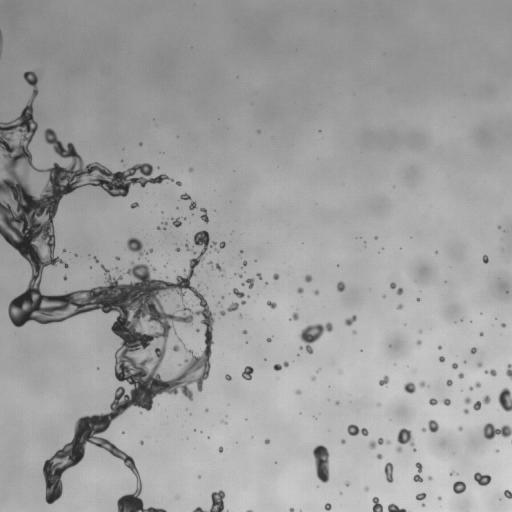droplet: (298, 322, 332, 354), (193, 490, 227, 511), (483, 422, 511, 439), (396, 428, 414, 452), (227, 288, 245, 311), (127, 237, 145, 255), (498, 388, 511, 411), (474, 472, 491, 485), (422, 420, 438, 432), (371, 497, 383, 511), (453, 481, 466, 493), (242, 366, 253, 380), (344, 315, 356, 326), (241, 278, 254, 288), (404, 382, 415, 393), (379, 375, 389, 386), (172, 217, 181, 227), (336, 281, 345, 291), (416, 492, 426, 500), (485, 369, 496, 376), (267, 301, 276, 309), (290, 311, 298, 320), (304, 275, 312, 282), (429, 398, 437, 405), (442, 398, 450, 405), (504, 490, 511, 498), (464, 397, 471, 404), (324, 503, 331, 510), (130, 202, 138, 208), (482, 255, 488, 263), (397, 288, 403, 295), (446, 379, 452, 386), (419, 381, 426, 387), (273, 273, 279, 279), (390, 282, 396, 288), (297, 287, 303, 293), (470, 347, 476, 353), (439, 356, 445, 362), (452, 363, 458, 369), (225, 374, 231, 380), (162, 221, 167, 228), (474, 382, 480, 387), (176, 181, 181, 186), (314, 290, 319, 295), (397, 304, 402, 309), (416, 340, 421, 345), (477, 362, 482, 367), (458, 373, 463, 378), (377, 454, 382, 459), (242, 261, 246, 267), (257, 273, 261, 279), (295, 390, 301, 394), (265, 438, 269, 444), (449, 471, 455, 475), (147, 249, 152, 253), (94, 257, 98, 262), (220, 311, 225, 315), (266, 338, 271, 342), (221, 420, 226, 424), (458, 426, 462, 431), (219, 447, 223, 452), (176, 247, 180, 251), (501, 323, 505, 327), (243, 330, 247, 334), (311, 376, 315, 380), (469, 386, 473, 390), (464, 409, 468, 413), (341, 439, 345, 443), (428, 476, 432, 480), (345, 482, 349, 486), (364, 487, 368, 491), (237, 274, 242, 277), (116, 256, 119, 260), (63, 276, 66, 280), (352, 330, 356, 333), (480, 332, 483, 336), (290, 507, 293, 511), (157, 226, 160, 229), (416, 298, 419, 301), (438, 346, 441, 349), (140, 441, 143, 444), (438, 496, 441, 499), (422, 503, 424, 507), (139, 143, 142, 145), (190, 168, 192, 171), (196, 329, 199, 331), (413, 448, 415, 451), (183, 217, 185, 219), (498, 226, 500, 228), (375, 237, 377, 239), (63, 249, 65, 251), (265, 283, 267, 285), (247, 295, 249, 297), (240, 315, 242, 317), (336, 402, 338, 404), (377, 403, 379, 405), (206, 409, 208, 411), (496, 450, 498, 452)
ligament: (0, 71, 225, 511), (312, 445, 329, 482), (180, 193, 196, 210), (473, 395, 490, 410), (368, 438, 390, 449), (347, 424, 368, 435), (384, 462, 393, 482), (413, 462, 422, 482), (388, 503, 407, 511), (208, 261, 223, 271), (273, 361, 288, 370), (185, 242, 195, 253), (201, 208, 208, 222), (506, 364, 511, 379), (0, 30, 2, 54), (178, 337, 182, 343), (247, 510, 252, 511)
